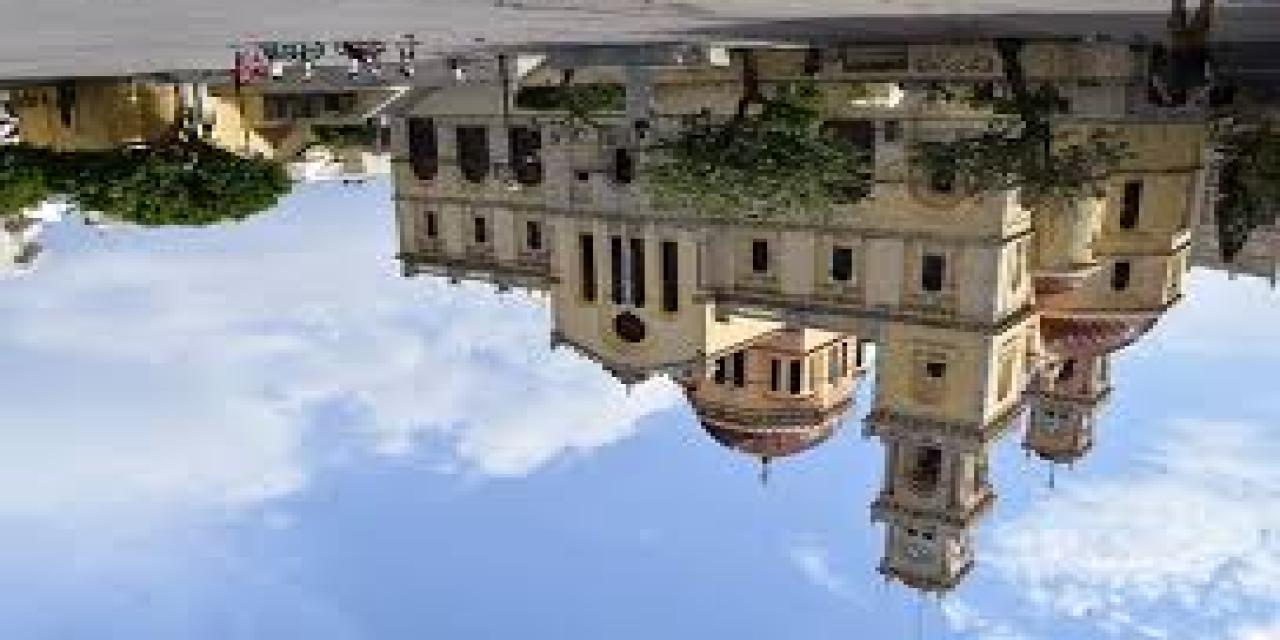Agios Minas: (386, 108, 1220, 596)
